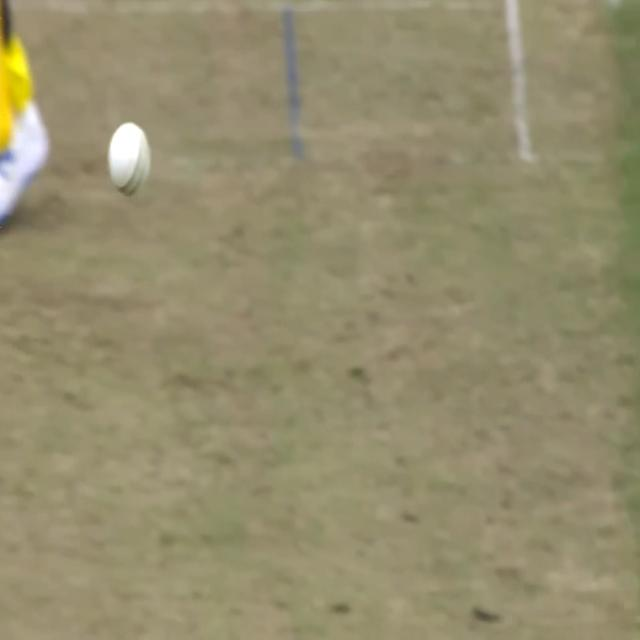ball: (104, 122, 158, 196)
